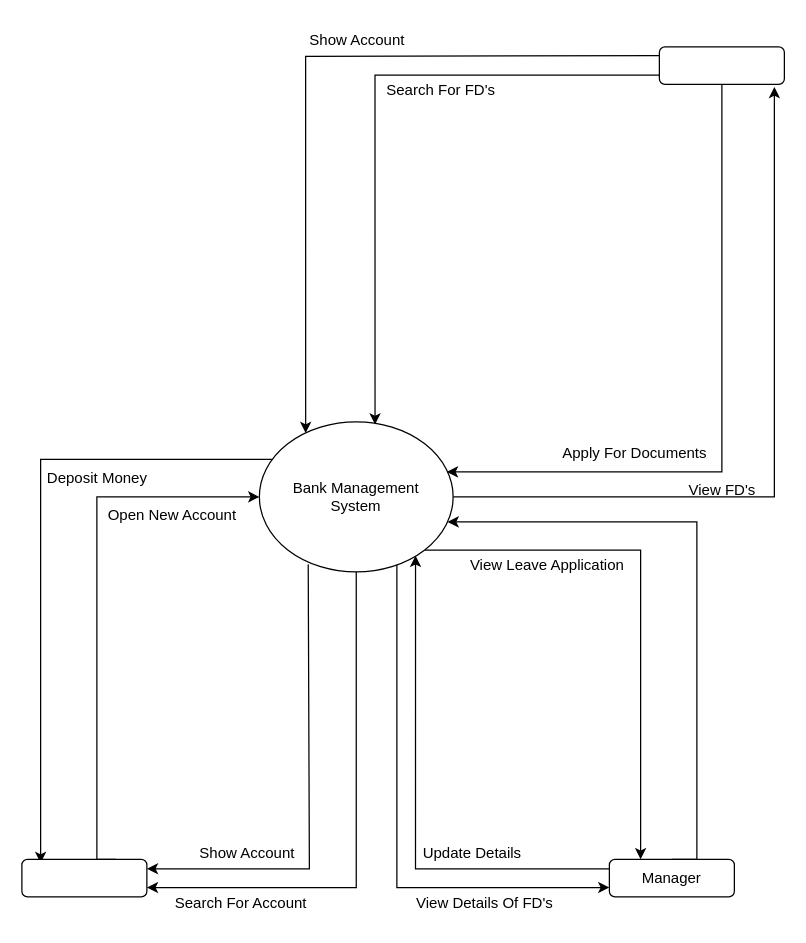
The diagram is 806 pixels wide and 943 high, and some of its shapes have lost their labels. Here are the shapes that lost their labels. From the top down, the centre of each, then its label:
At point 721,65: "Customer".
At point 84,877: "Staff".
